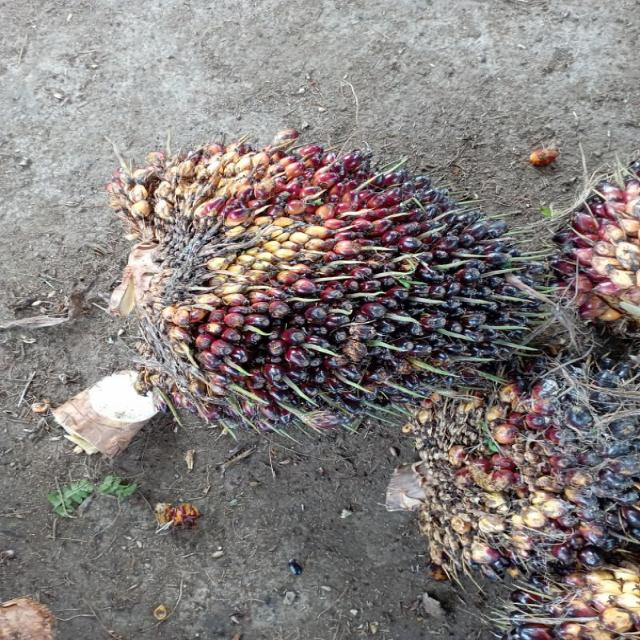fraksi 1: (81, 103, 568, 437)
